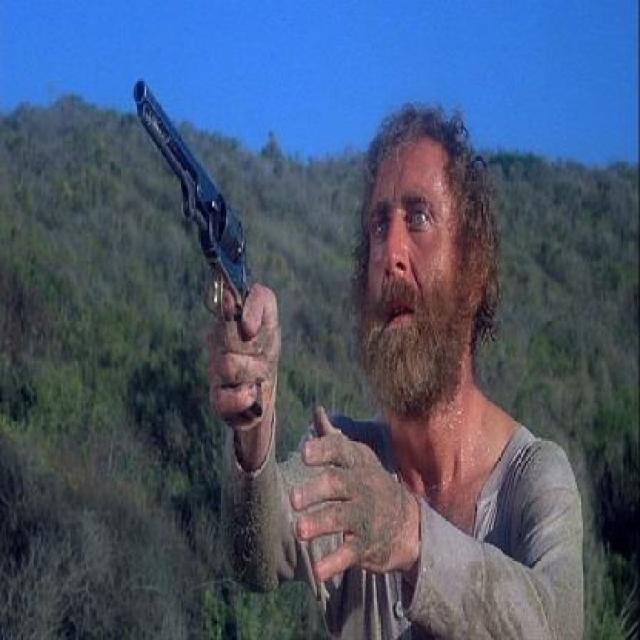gun: (123, 22, 260, 398)
